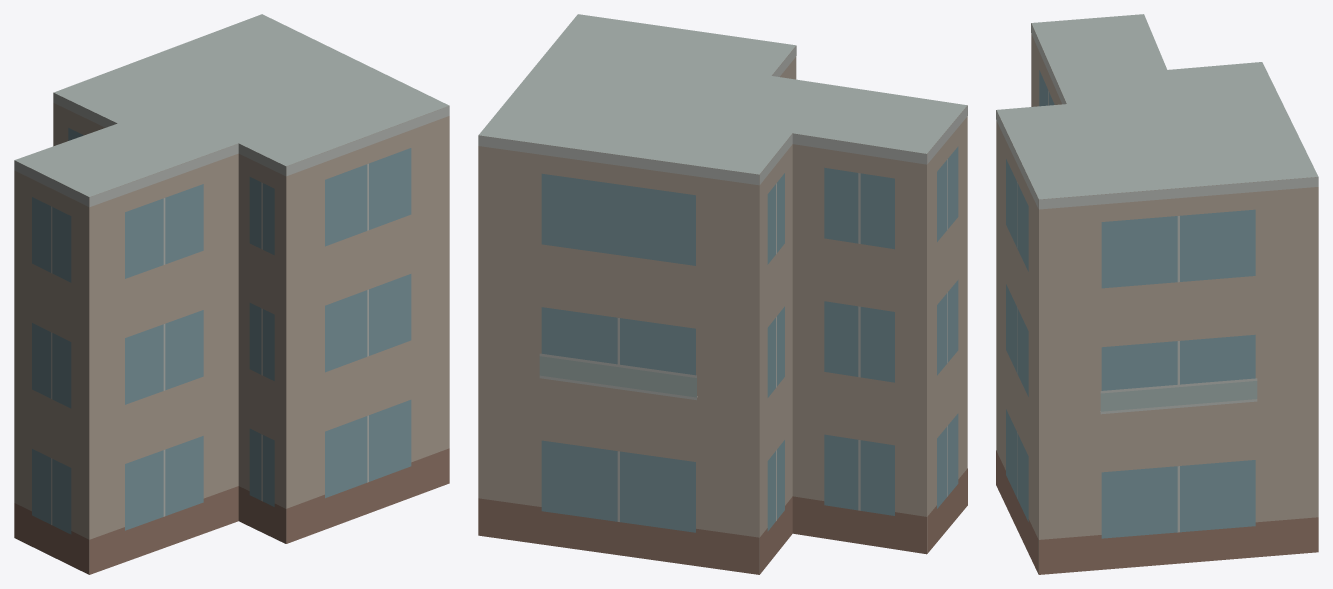
The model's file is survey-upis-32648480.glb.
3 views of the same model, side by side, from view 1: azimuth 30°, elevation 25°; view 2: azimuth 150°, elevation 25°; view 3: azimuth 270°, elevation 25° (orthographic). The views are drawn at different scales.
Parts seen in each view (by area): view 1: survey-upis-32648480.tmp; view 2: survey-upis-32648480.tmp; view 3: survey-upis-32648480.tmp.
Boxes of the visible parts, x1,y1,x2,y2 form: survey-upis-32648480.tmp: (14, 14, 449, 574); survey-upis-32648480.tmp: (478, 14, 967, 574); survey-upis-32648480.tmp: (996, 14, 1318, 574).
Bounding box in the file's own units: 9.65 × 9.1 × 7.09.
